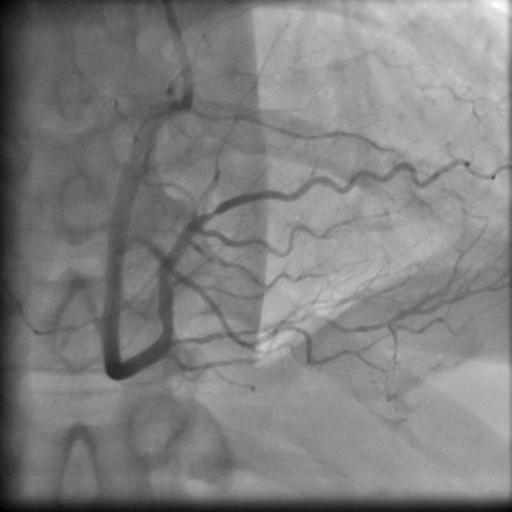Stenosis: (196, 202, 225, 223)
